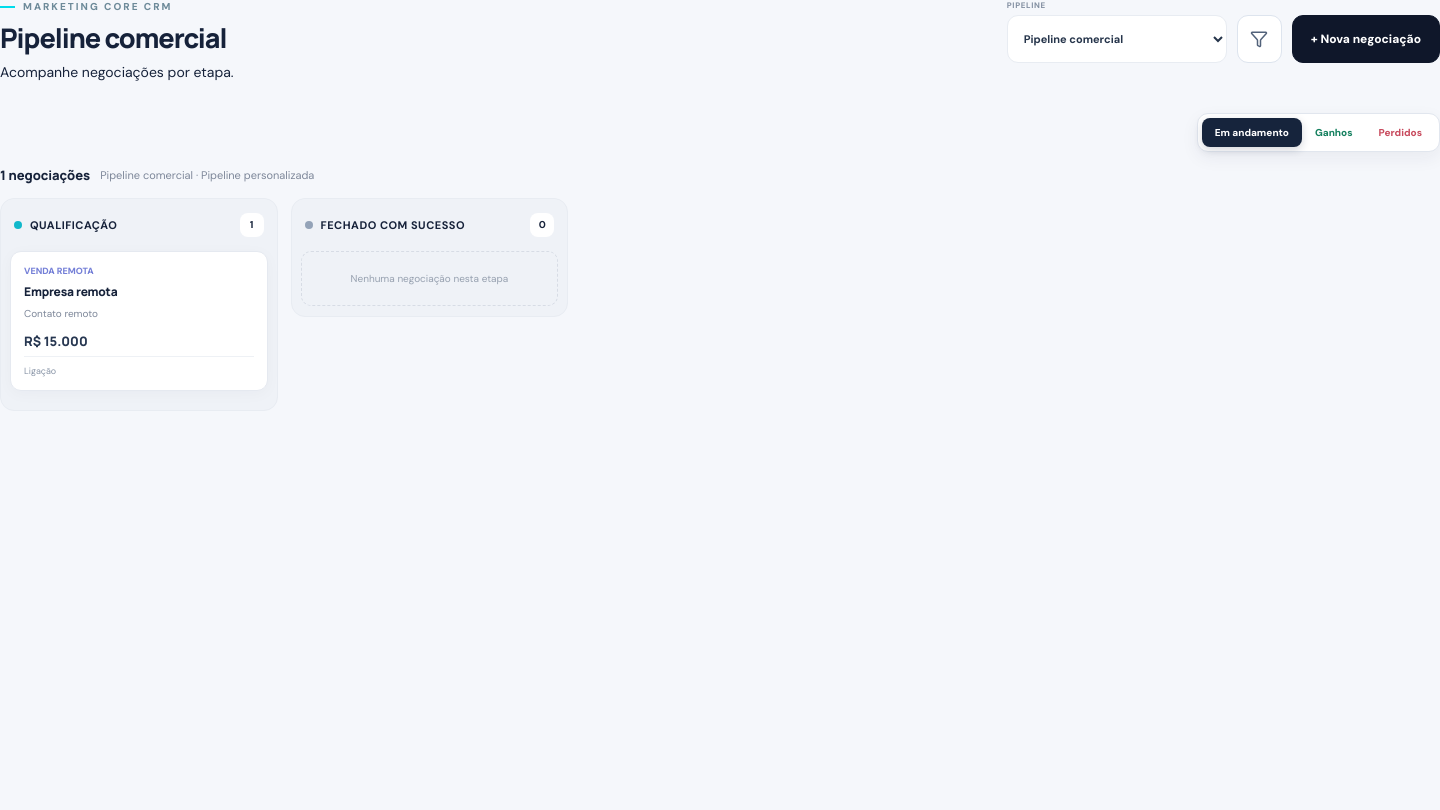
Test: persistência remota das negociações na Pipeline › mantém a próxima ação anterior e mostra erro quando a persistência falha
The width and height of the screenshot is (1440, 810).
Click the button with test id "deal-card-deal-1" at [139, 321], box [10,251,268,391]
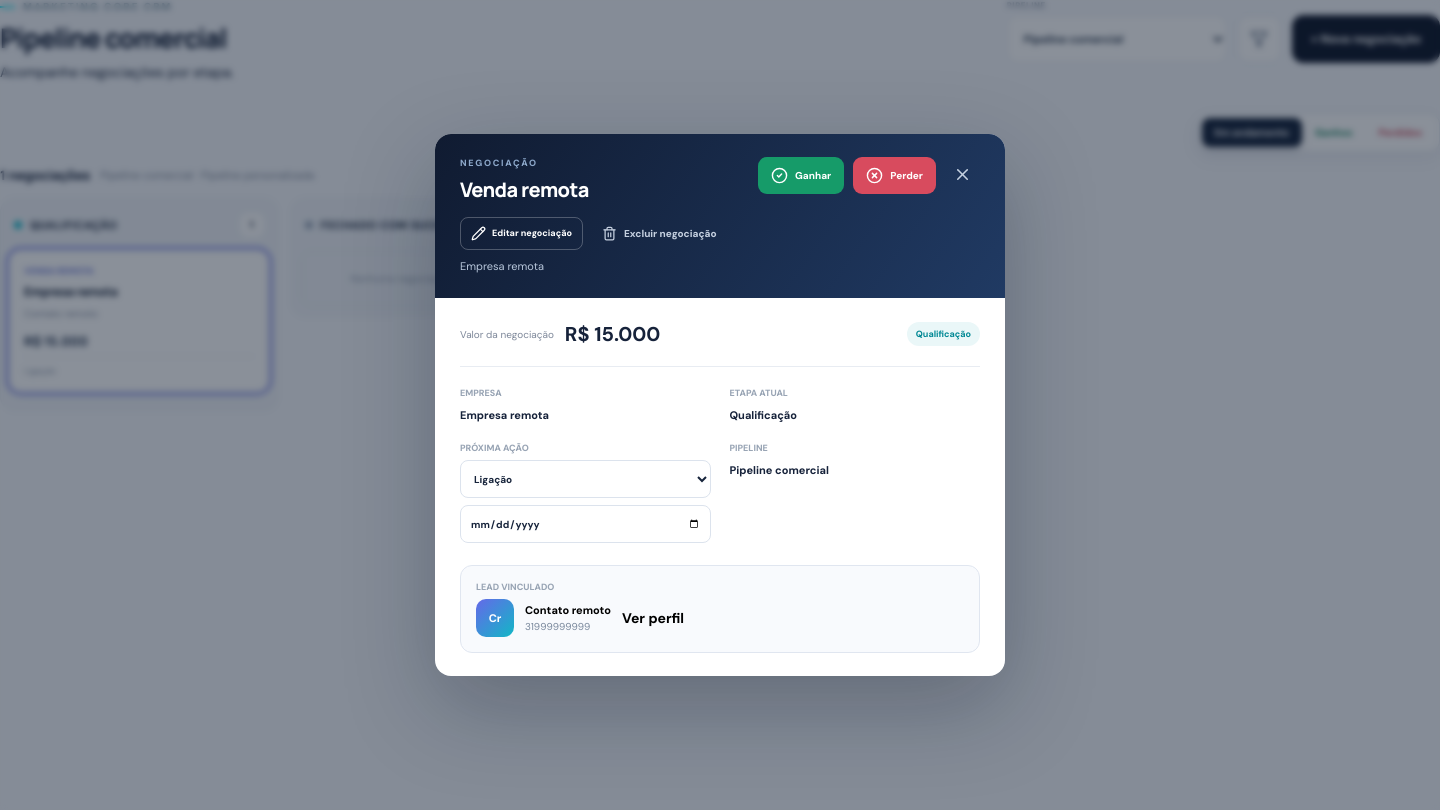
Select "Enviar contrato" in the dropdown named "Selecionar próxima ação" at [585, 479], box [460,460,710,498]
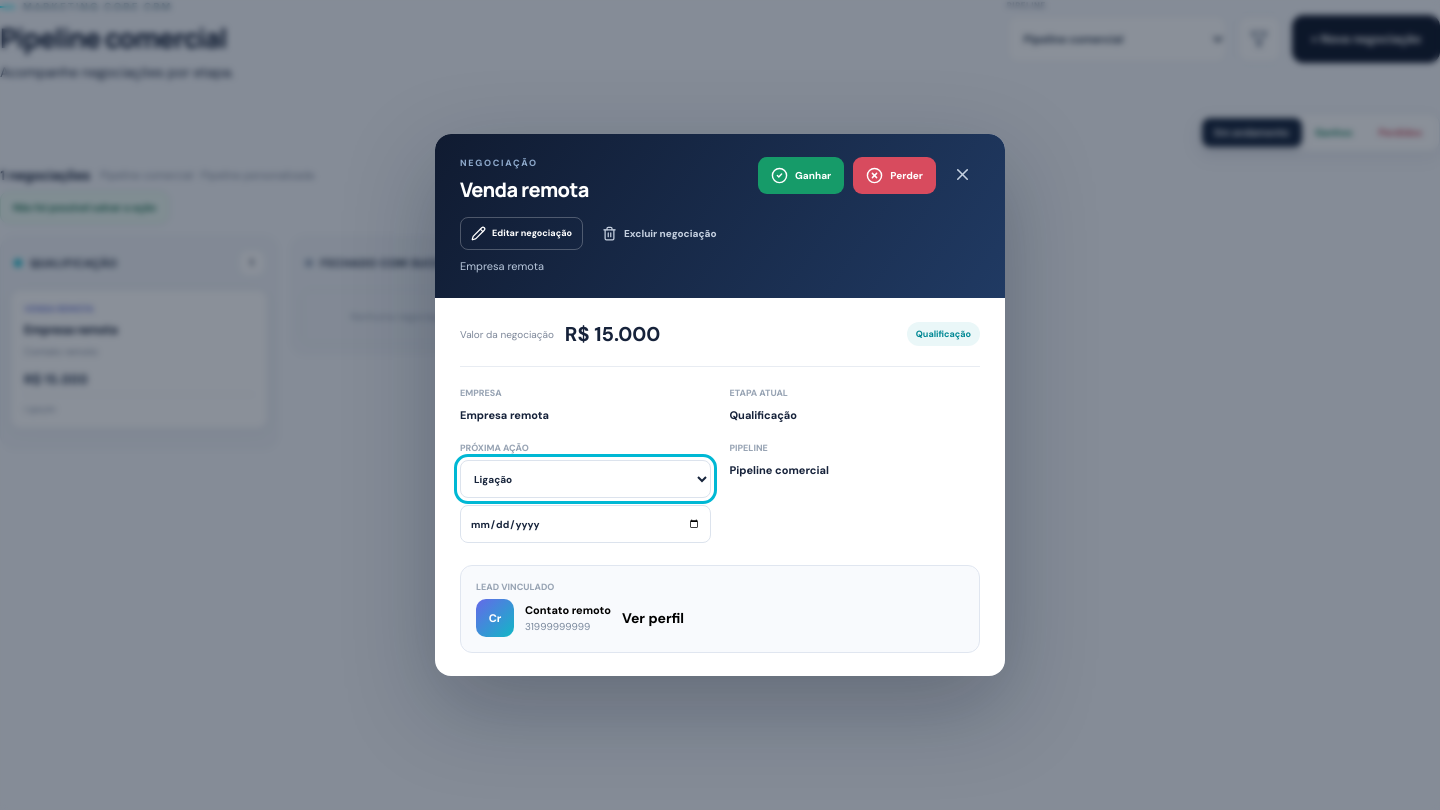
Expected: the message reads "Não foi possível salvar a ação", [13,201,156,214]
